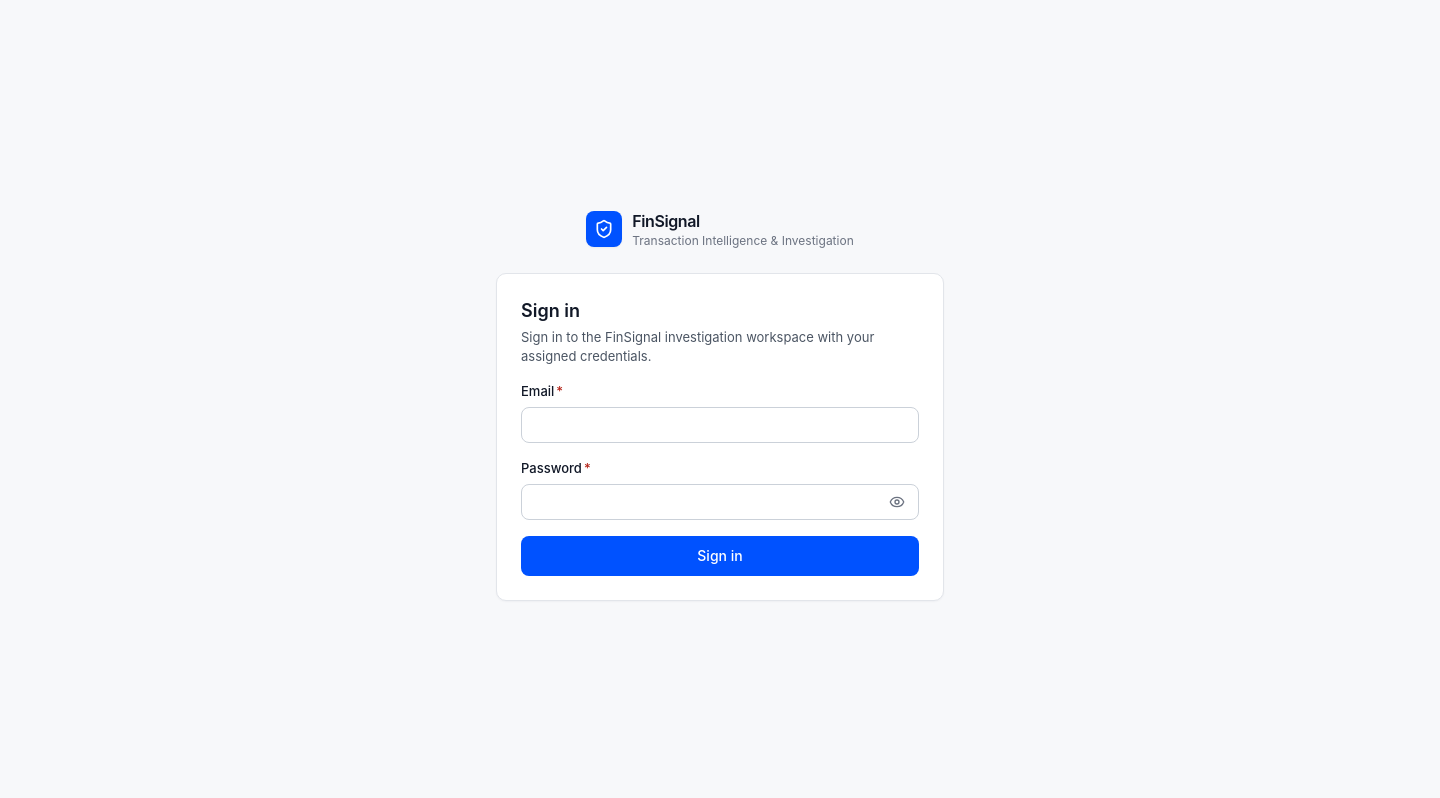
LoginPage (F2.5) › neutralizes unsafe external ?redirect= targets back to Dashboard Overview
This screenshot has width=1440, height=798.
Step 1. Type "admin@finsignal.test" into the field labelled "Email*" → [720, 425], box [521,407,919,443]
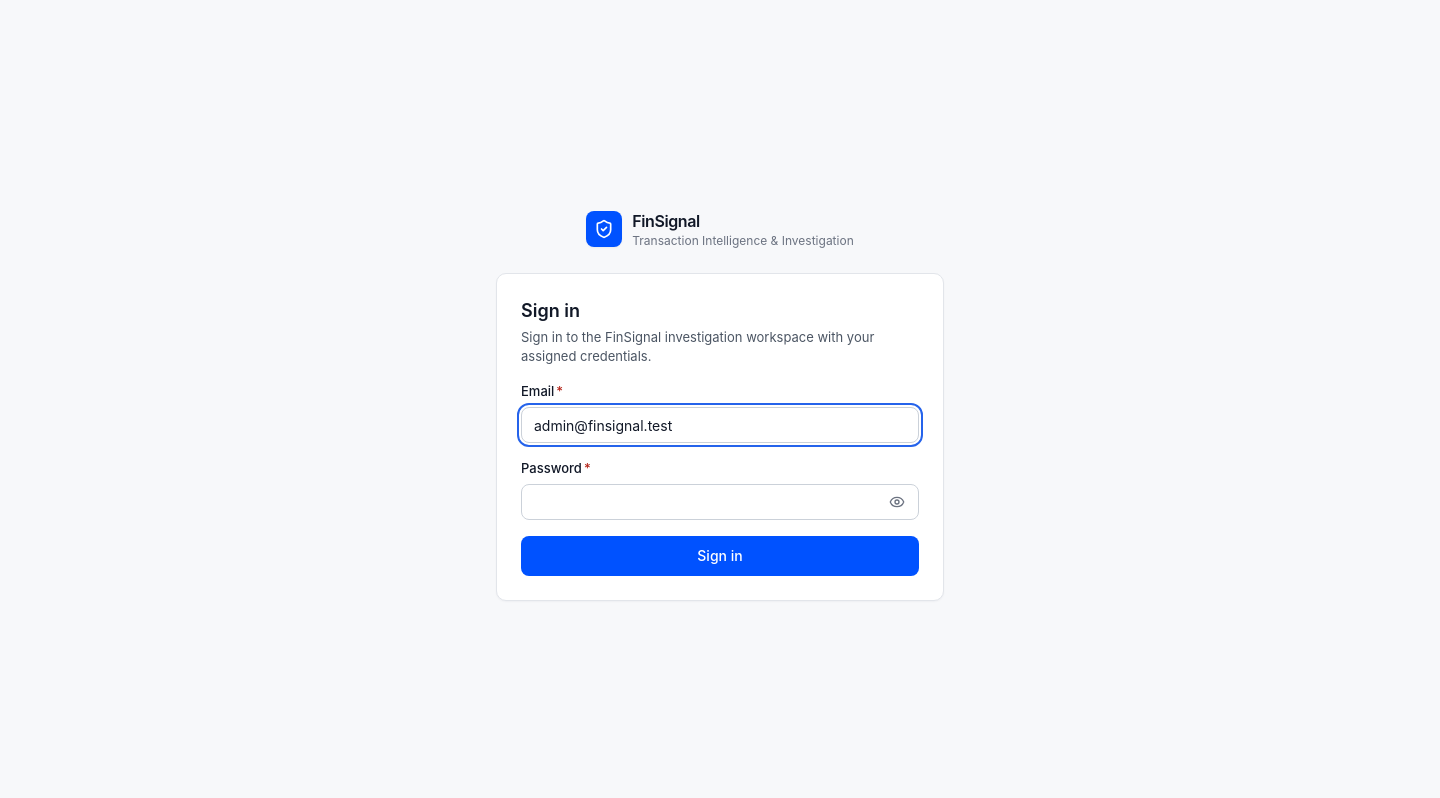
Step 2. Type "pass" into the password field labelled "Password*" → [720, 502], box [521,484,919,520]
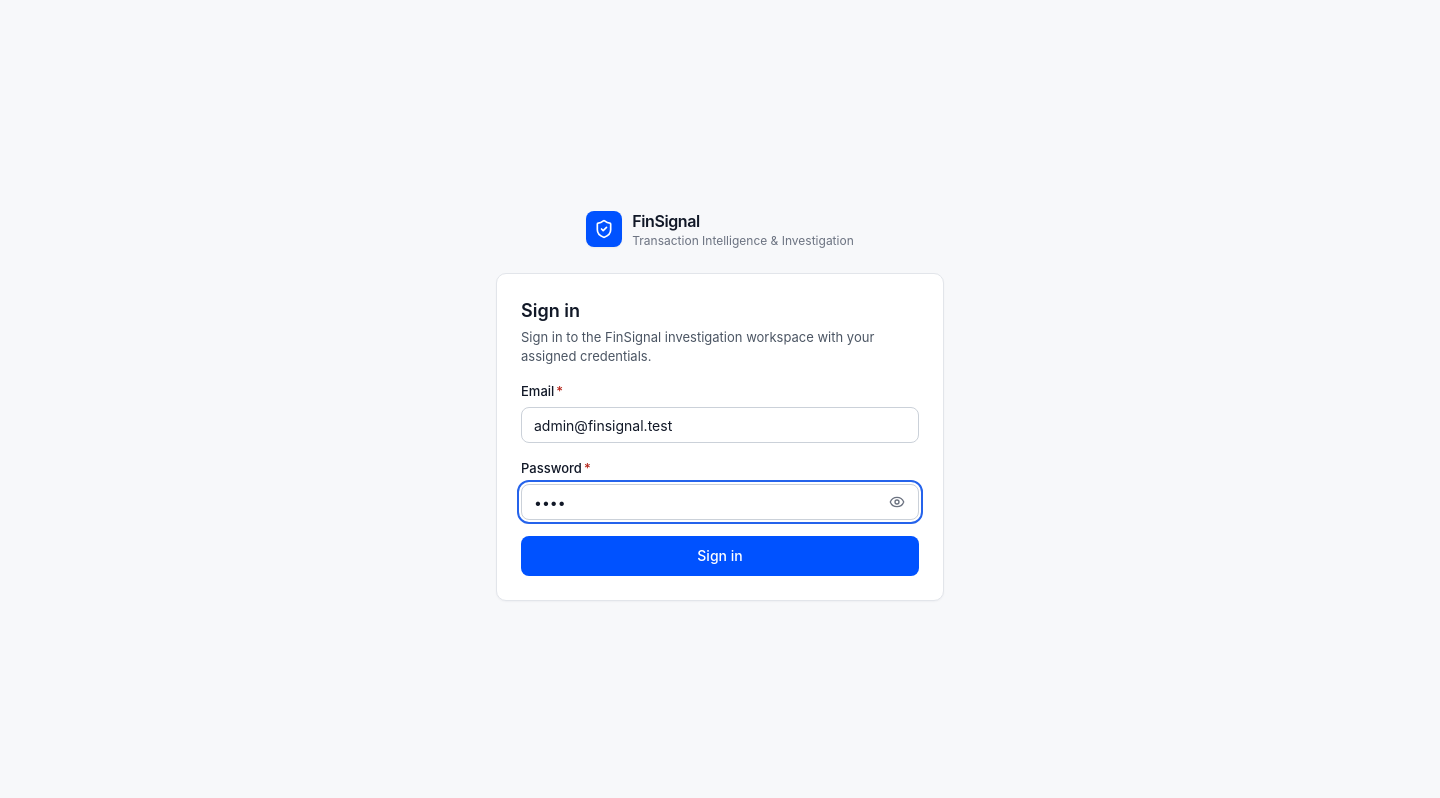
Step 3. Click the button "Sign in" → [720, 556], box [521,536,919,576]
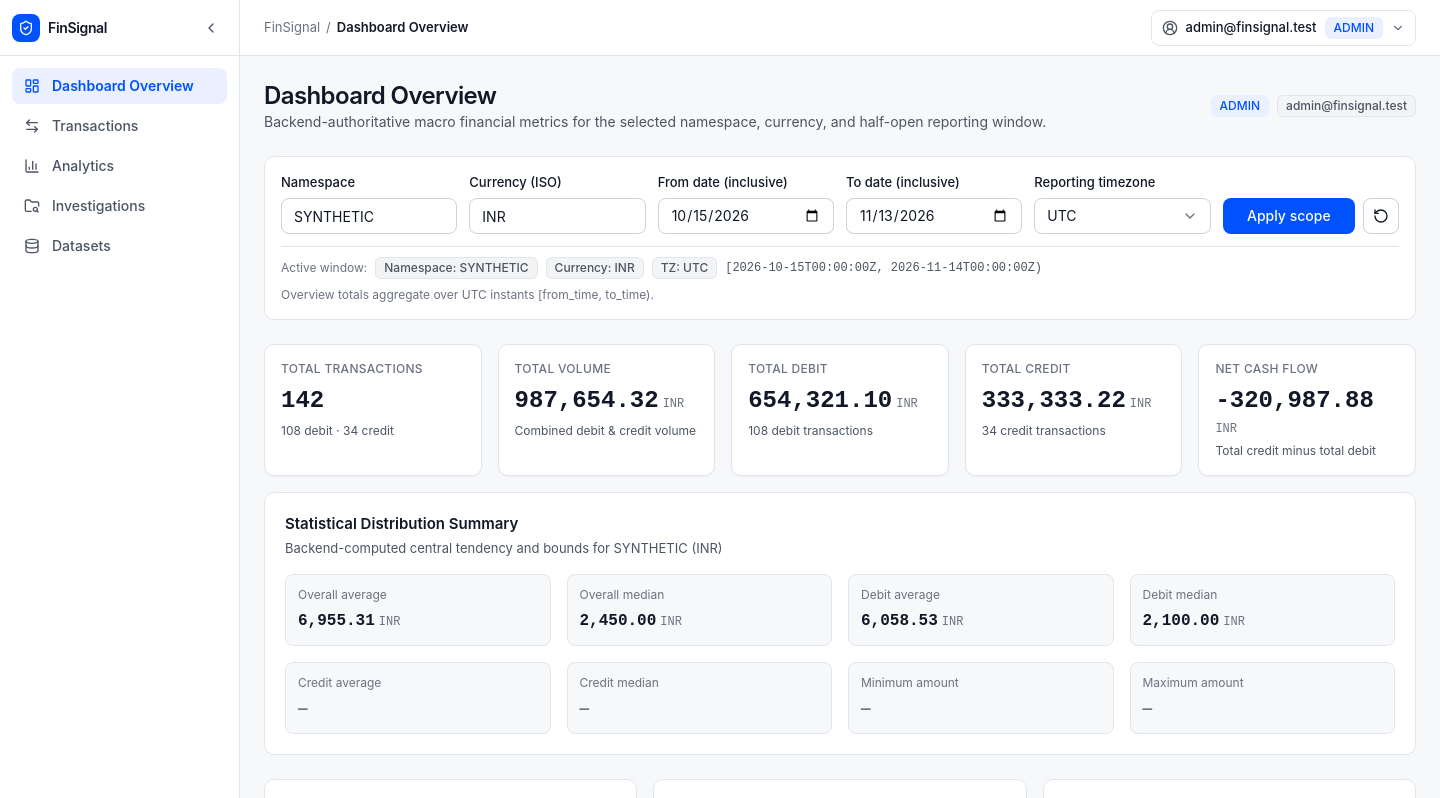
expect the heading "Dashboard Overview" is shown: met, box [264,81,496,110]
